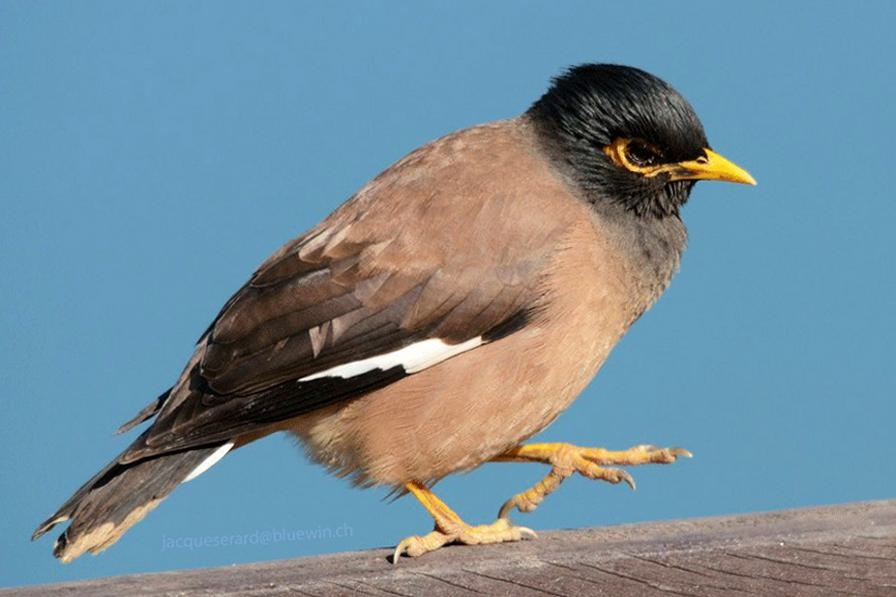myna: (92, 62, 758, 587)
